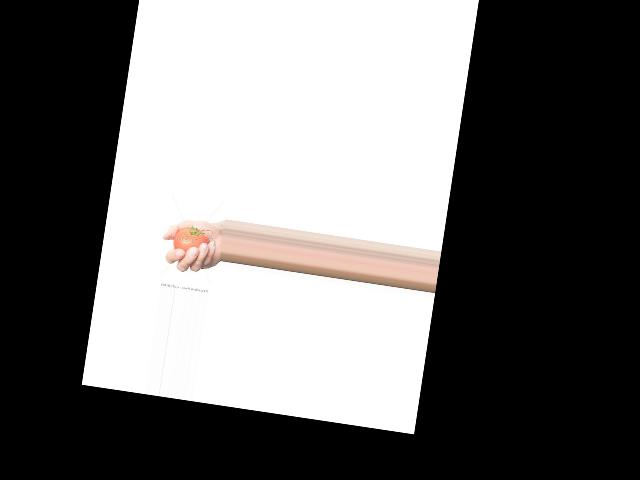tomato: (171, 225, 210, 254)
